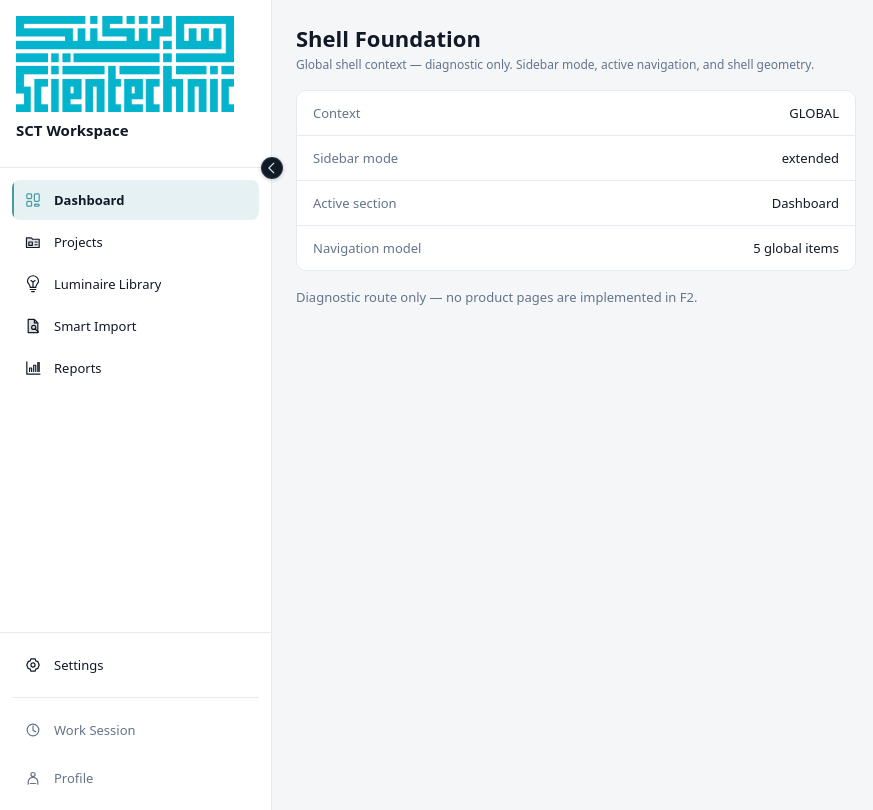
Test: GlobalShellDiagnosticScreen › toggles the sidebar mode through the diagnostic control (E)
What coordinates should you click on to do the following:
click the button named "Collapse sidebar to minimal"
I would click on:
 (272, 168)
Its box is [256,152,288,184].
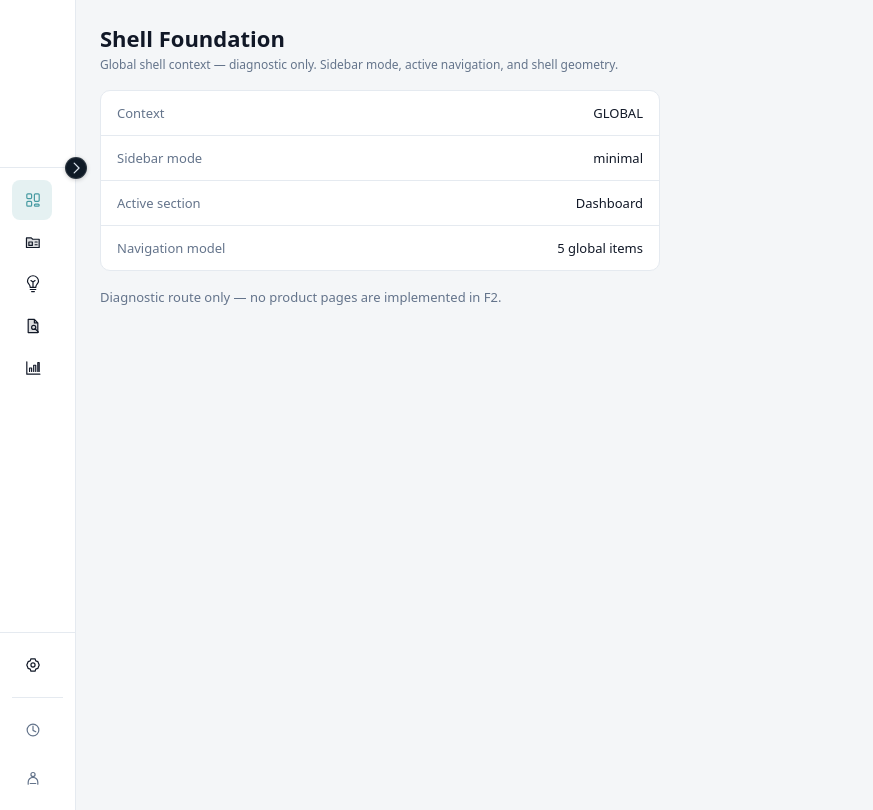
expect the text with test id "v4-diag-sidebar-mode" reads "minimal": met, box [593,149,643,167]
What coordinates should you click on to do the following:
click the button named "Expand sidebar to extended"
I would click on:
 (76, 168)
Its box is [60,152,92,184].
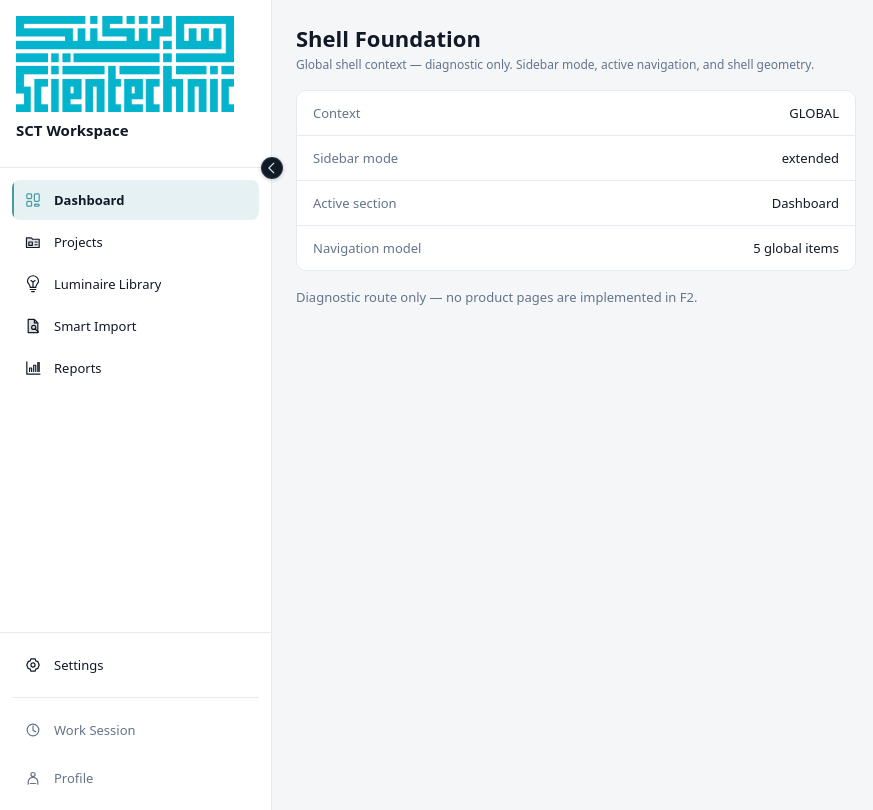
expect the text with test id "v4-diag-sidebar-mode" reads "extended": met, box [782,149,839,167]
